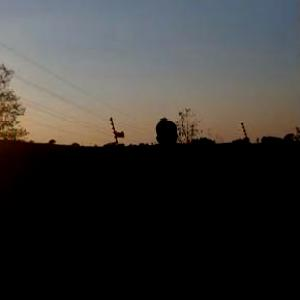follow: (136, 111, 221, 299)
